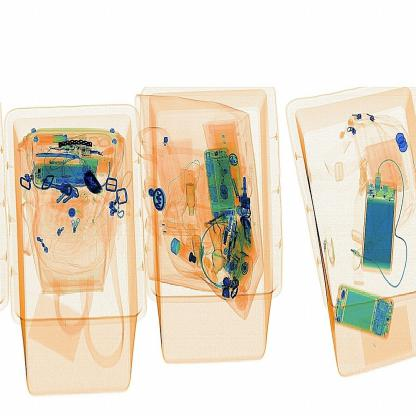scissors: (80, 162, 109, 207)
